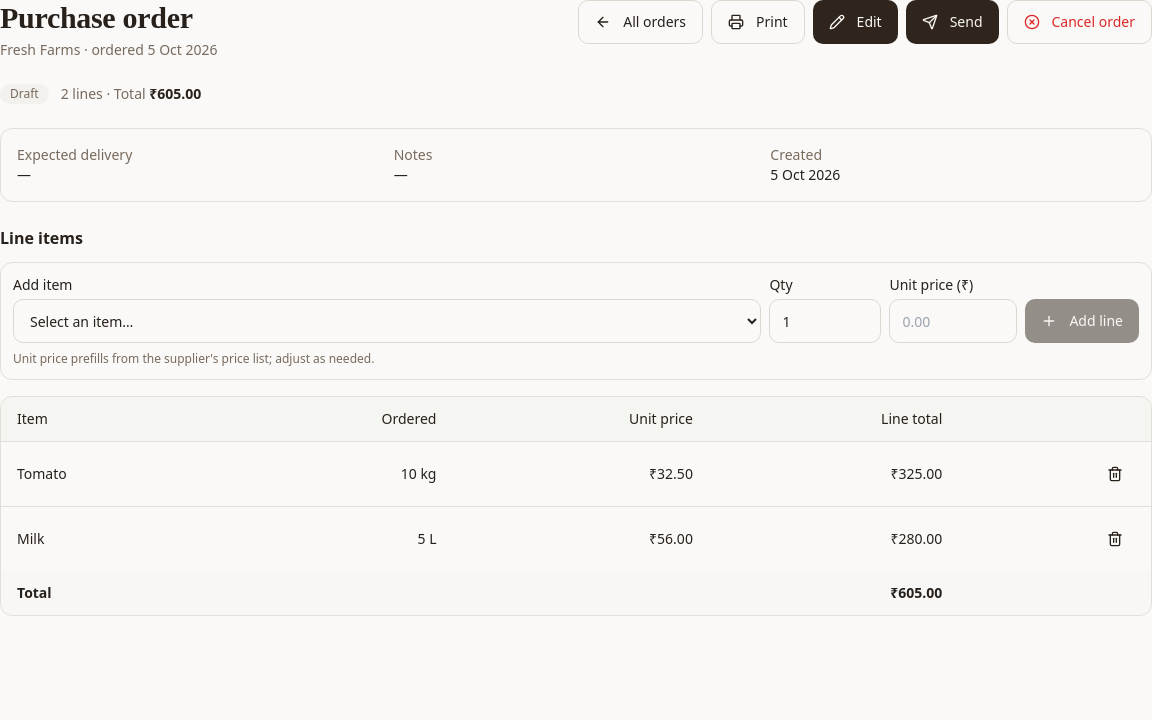
Test: PurchaseOrderDetailPage lifecycle actions › disables channels the supplier cannot receive on
The image size is (1152, 720).
What coordinates should you click on to do the following:
click the button "Send"
I would click on:
 (952, 22)
Its box is left=906, top=0, right=999, bottom=44.
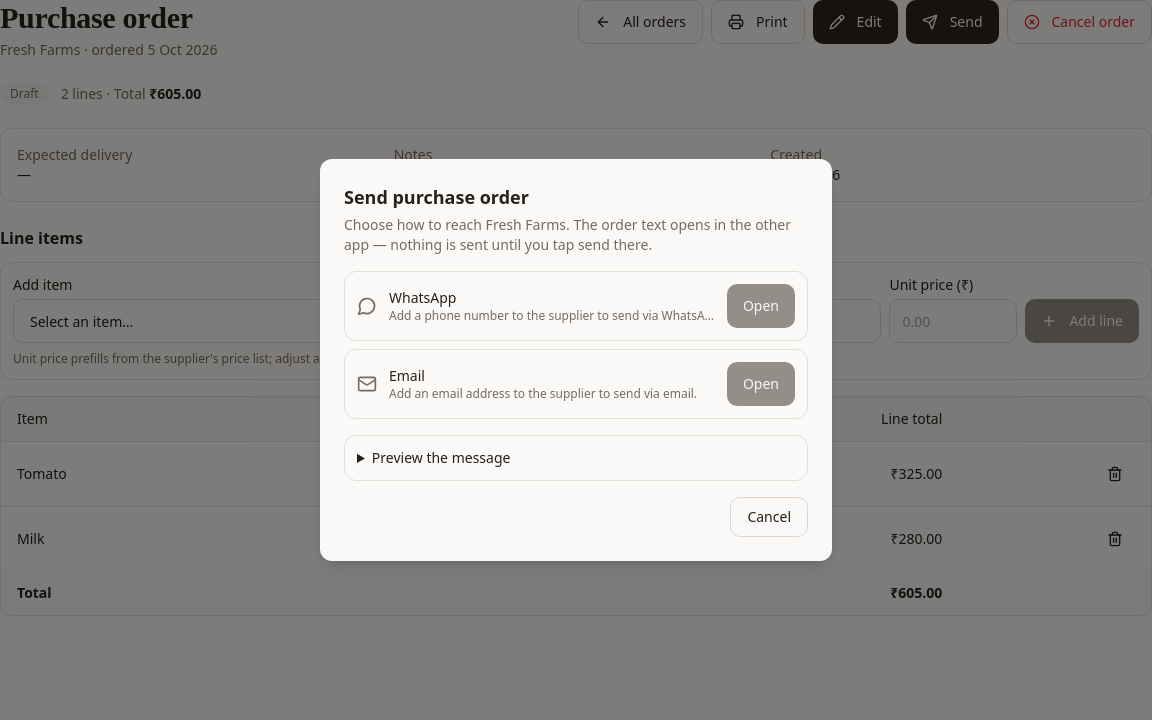
Now the button with aria-label "whatsapp unavailable" is disabled, box left=727, top=284, right=795, bottom=328
Now the text "Add a phone number to the supplier to send via WhatsApp." is shown, box left=389, top=308, right=715, bottom=324
Now the button with aria-label "email unavailable" is disabled, box left=727, top=362, right=795, bottom=406
